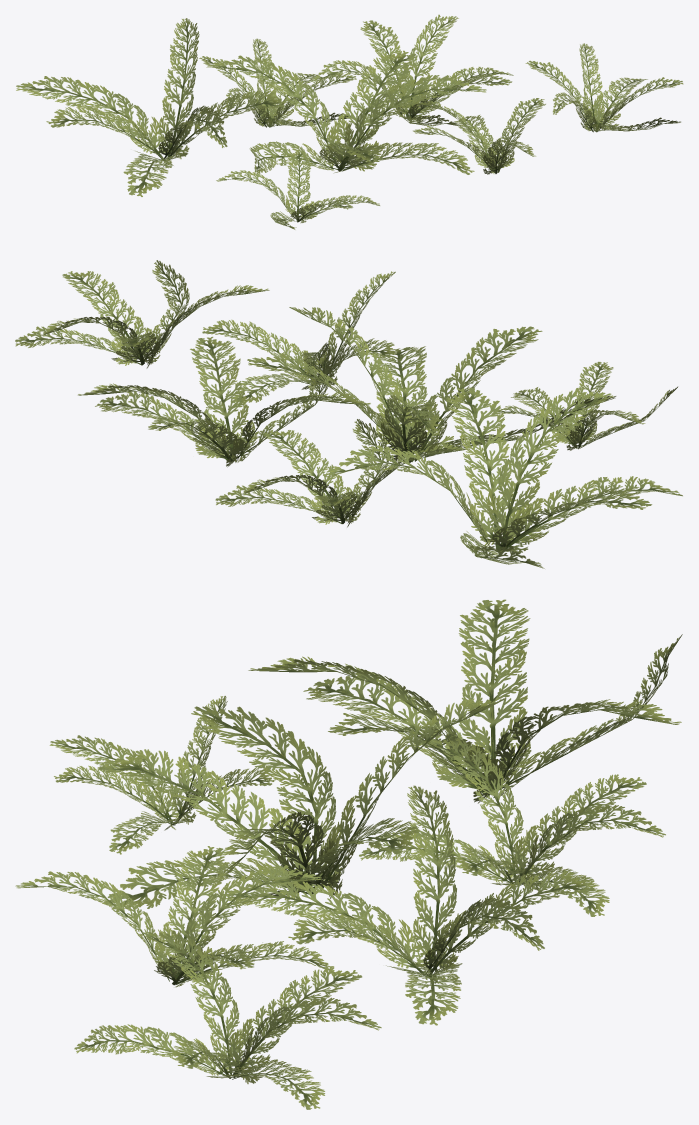
The model's file is SM_Plant_Grass_Yarrow_05.gltf.
3 views of the same model, one above another, from view 1: azimuth 30°, elevation 25°; view 2: azimuth 150°, elevation 25°; view 3: azimuth 270°, elevation 25° (orthographic). The views are drawn at different scales.
Visible parts, largest first — view 1: SM_Plant_Grass_Yarrow_05; view 2: SM_Plant_Grass_Yarrow_05; view 3: SM_Plant_Grass_Yarrow_05.
Part boxes in pixels (x1=…): SM_Plant_Grass_Yarrow_05: x1=16, y1=14, x2=683, y2=229; SM_Plant_Grass_Yarrow_05: x1=15, y1=260, x2=682, y2=568; SM_Plant_Grass_Yarrow_05: x1=15, y1=599, x2=682, y2=1109.
Size of the model in its own units: 0.708 by 0.1136 by 0.4595.
1 material, 1 textured.
